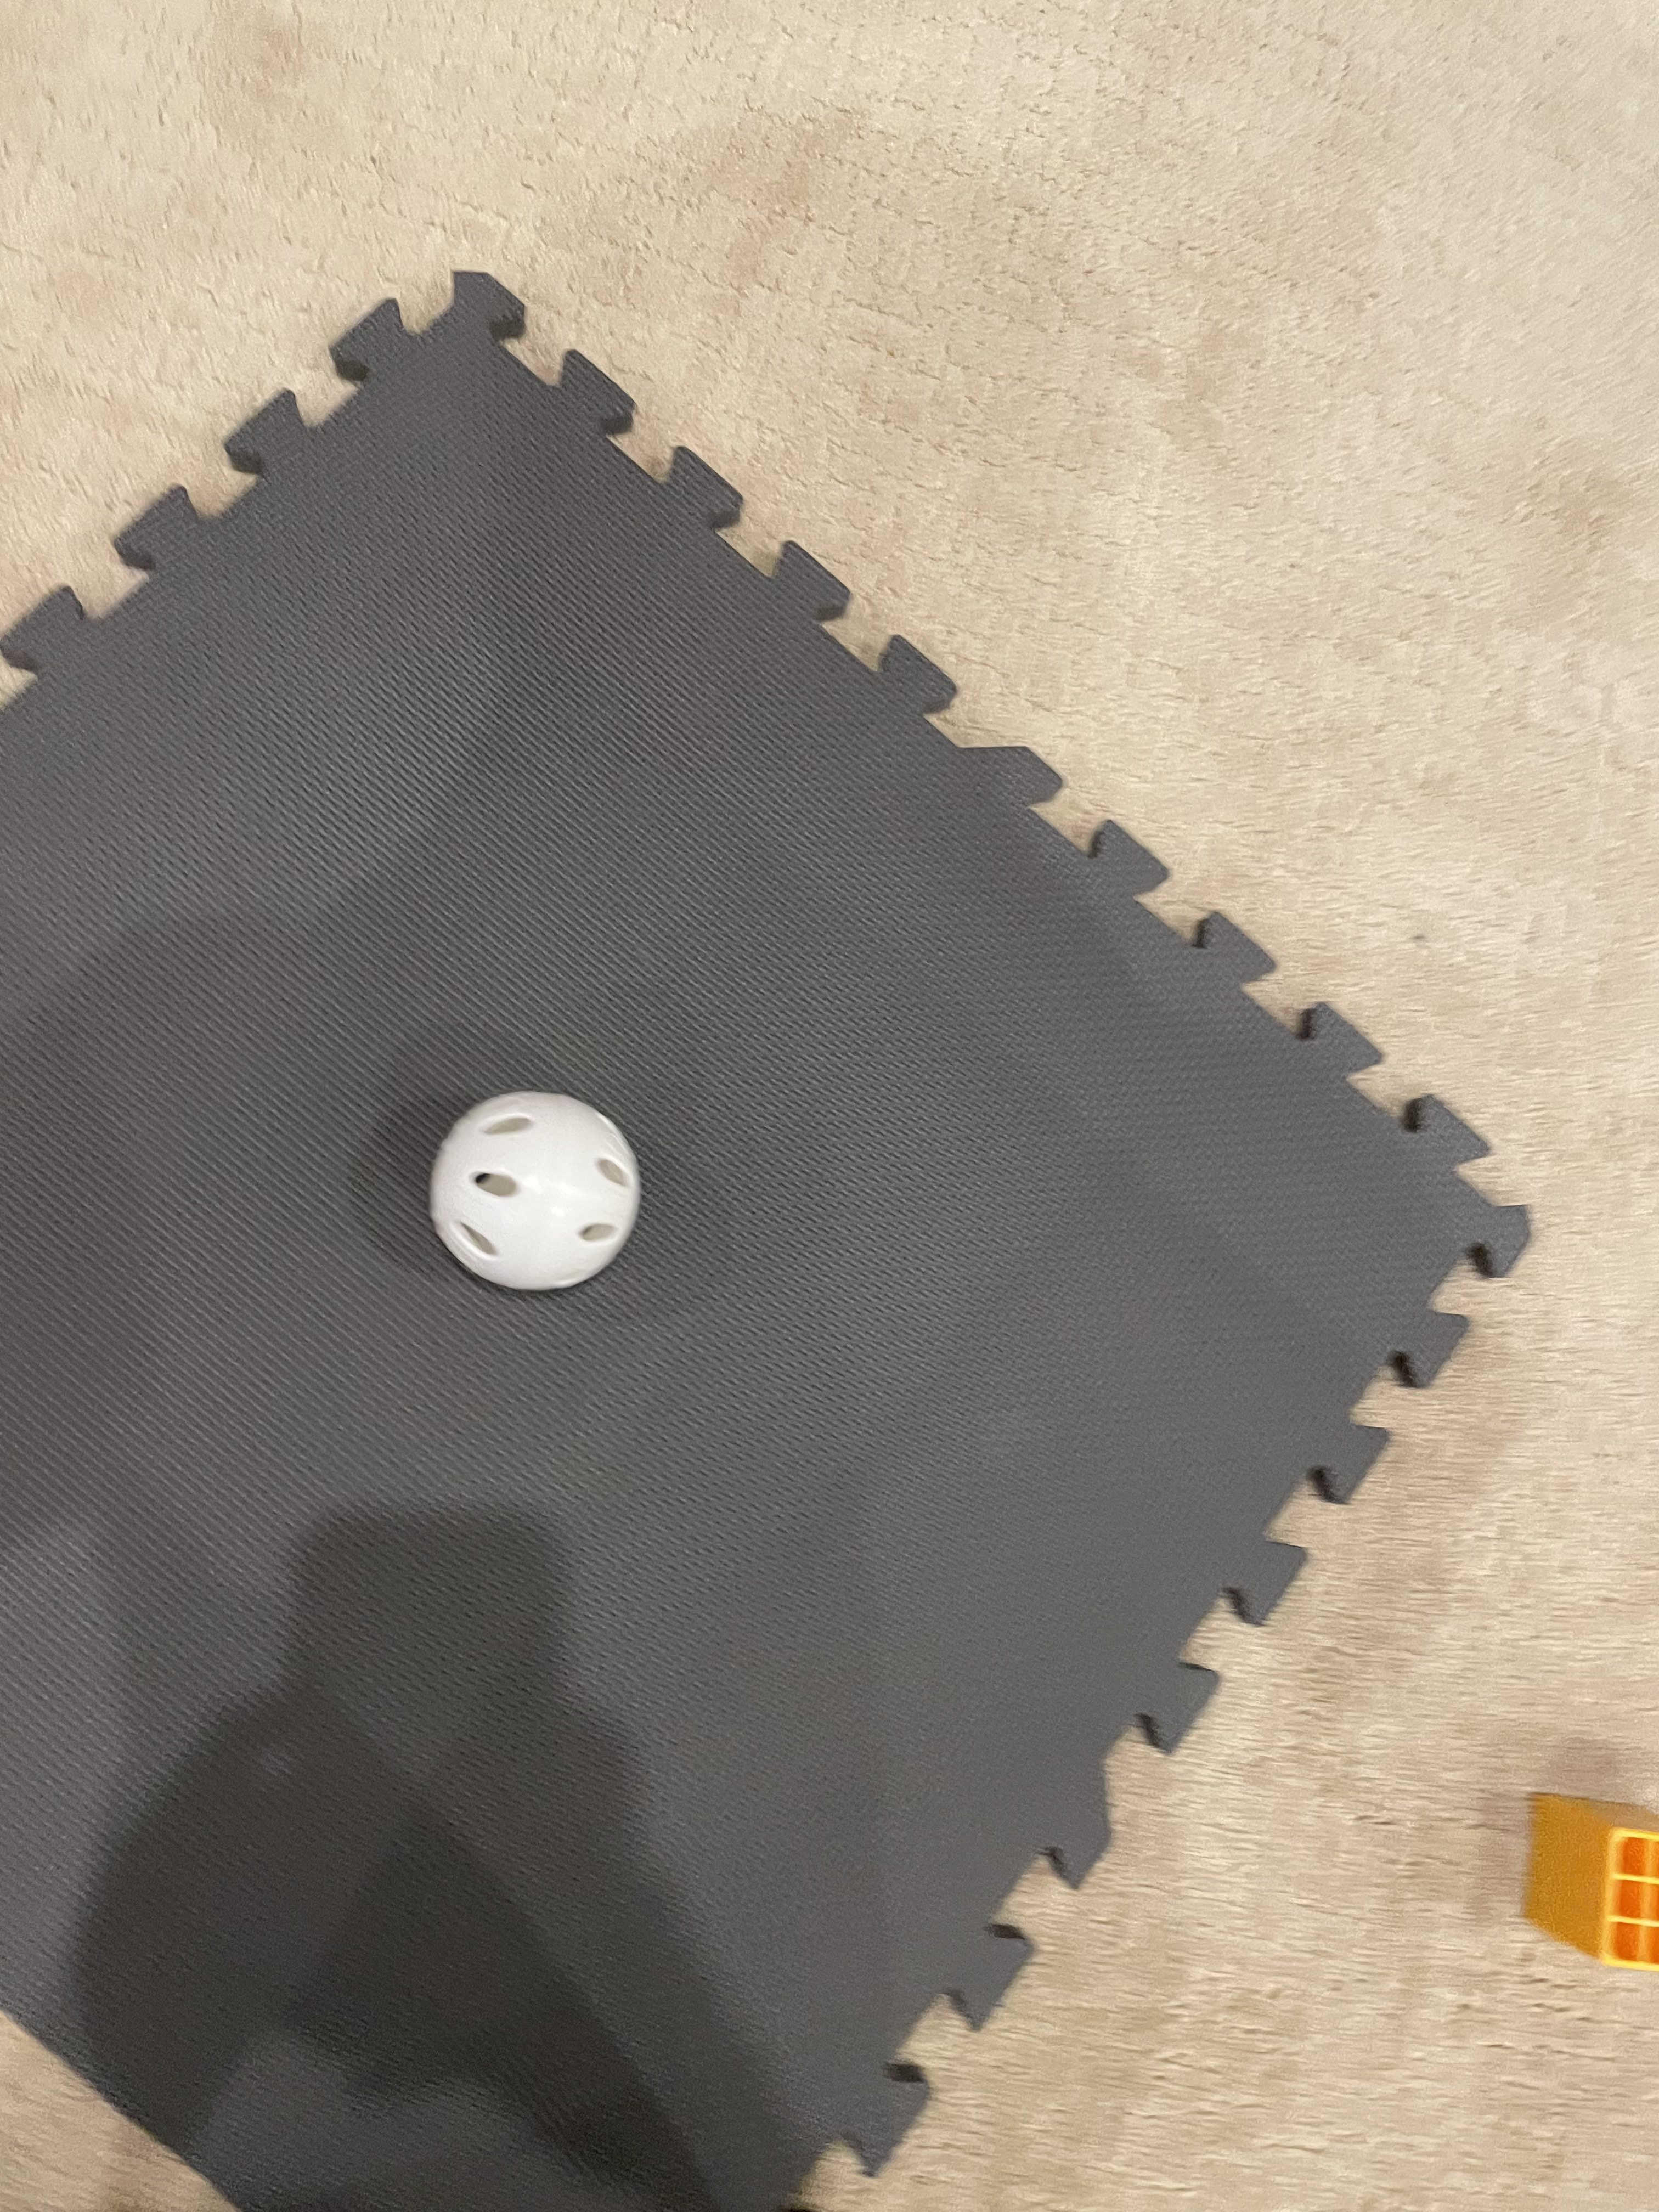ball: (410, 1055, 678, 1325)
